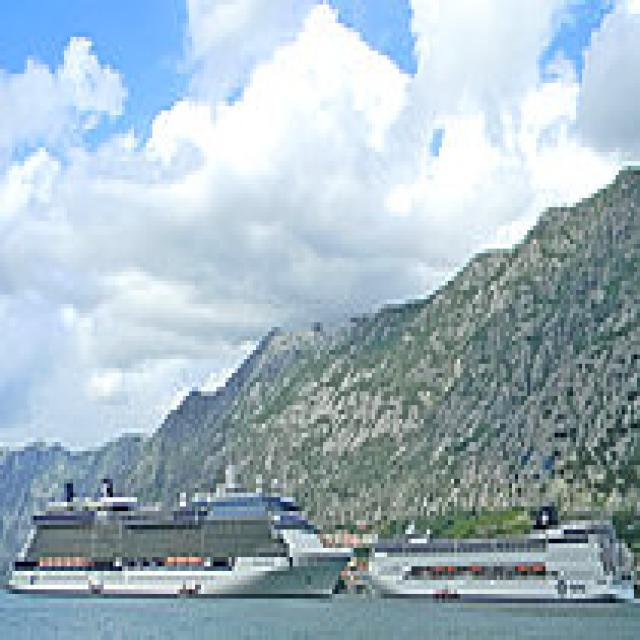Ship: (10, 448, 364, 605), (360, 502, 640, 622)
